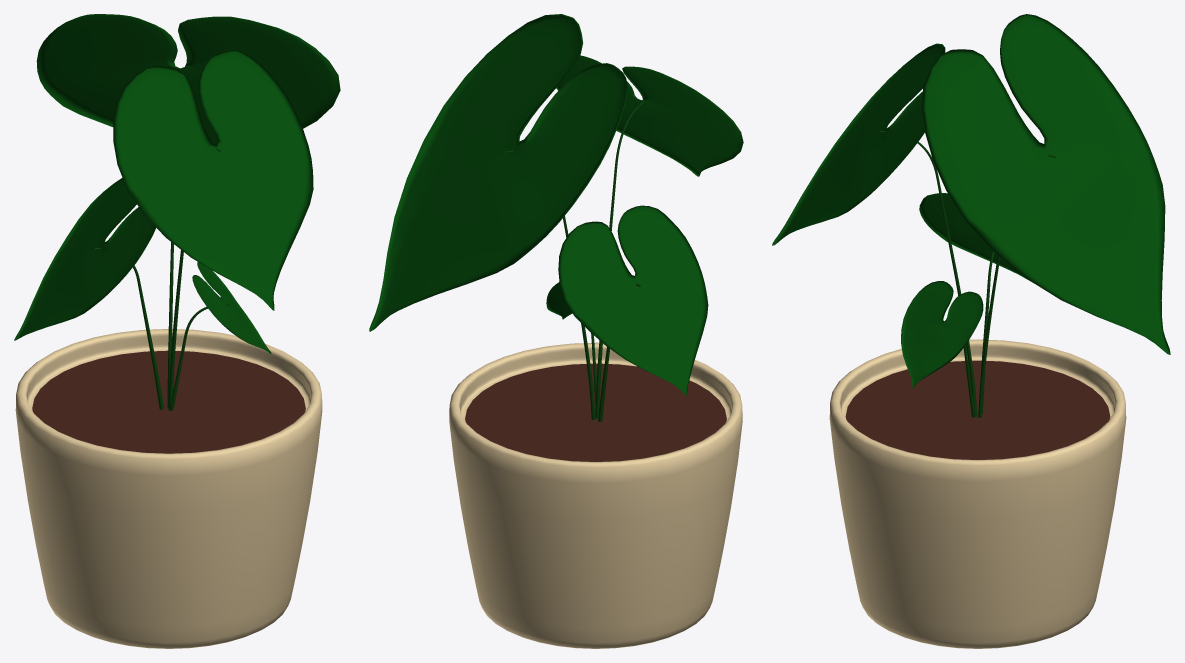
File: Anthurium Clarinervium w_o texture.fbx
The picture shows the model from 3 angles, left to right: view 1: azimuth 30°, elevation 25°; view 2: azimuth 150°, elevation 25°; view 3: azimuth 270°, elevation 25°; orthographic projection. The views are drawn at different scales.
Visible parts, largest first — view 1: Circle, Plane, Circle.001, Plane.001, Plane.002, NurbsPath.002, Plane.003; view 2: Circle, Plane.001, Circle.001, Plane.002, Plane, NurbsPath.002, Plane.003; view 3: Circle, Plane.001, Circle.001, Plane, Plane.003, Plane.002, NurbsPath.002.
Boxes of the visible parts, left/top/right/bottom form: Circle: left=15, top=329, right=322, bottom=648; Plane: left=113, top=50, right=313, bottom=310; Circle.001: left=32, top=350, right=305, bottom=453; Plane.001: left=36, top=14, right=340, bottom=144; Plane.002: left=14, top=178, right=156, bottom=340; NurbsPath.002: left=95, top=72, right=229, bottom=410; Plane.003: left=192, top=262, right=271, bottom=353; Circle: left=449, top=342, right=742, bottom=648; Plane.001: left=369, top=14, right=627, bottom=331; Circle.001: left=465, top=363, right=726, bottom=461; Plane.002: left=558, top=205, right=708, bottom=395; Plane: left=556, top=55, right=743, bottom=176; NurbsPath.002: left=505, top=101, right=644, bottom=421; Plane.003: left=546, top=282, right=572, bottom=319; Circle: left=829, top=339, right=1126, bottom=648; Plane.001: left=921, top=14, right=1170, bottom=354; Circle.001: left=845, top=360, right=1110, bottom=459; Plane: left=772, top=43, right=945, bottom=245; Plane.003: left=901, top=281, right=983, bottom=388; Plane.002: left=919, top=193, right=1030, bottom=281; NurbsPath.002: left=879, top=131, right=1055, bottom=417.
Bounding box in the file's own units: 27.78 × 51.82 × 32.46.
